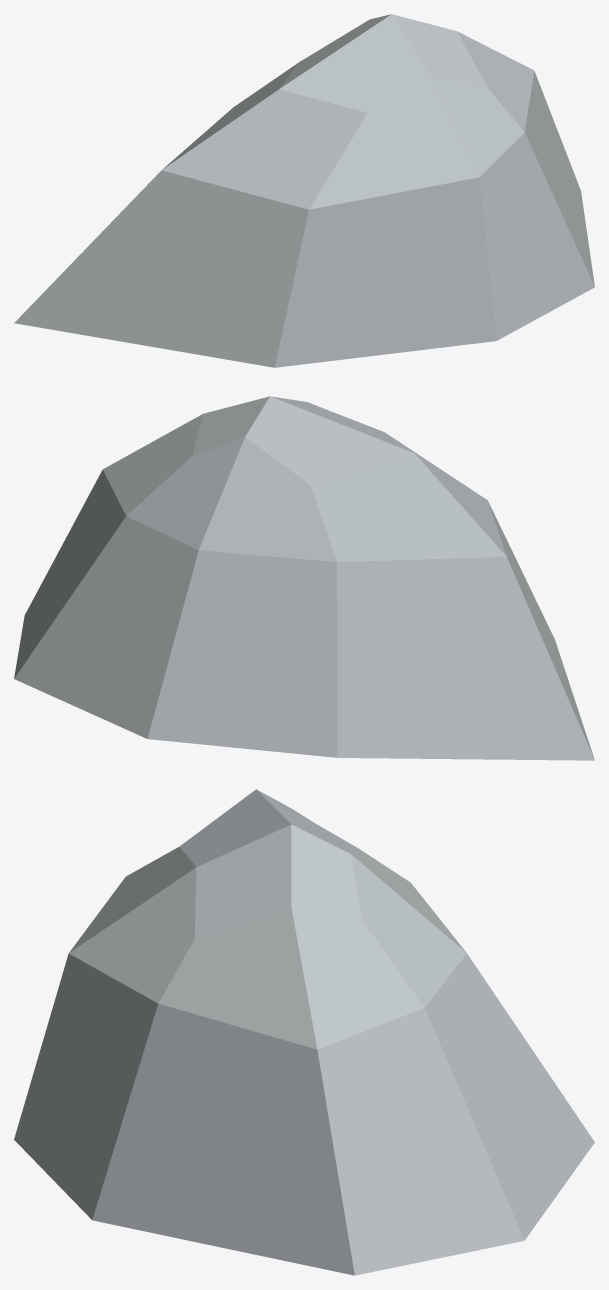
Rendered from maya_export_Stone1_v1.fbx.
The picture shows the model from 3 angles, top to bottom: view 1: azimuth 30°, elevation 25°; view 2: azimuth 150°, elevation 25°; view 3: azimuth 270°, elevation 25°; orthographic projection. The views are drawn at different scales.
Visible parts, largest first — view 1: Stone1_v1; view 2: Stone1_v1; view 3: Stone1_v1.
Boxes of the visible parts, left/top/right/bottom form: Stone1_v1: left=14, top=14, right=594, bottom=367; Stone1_v1: left=14, top=396, right=594, bottom=760; Stone1_v1: left=14, top=789, right=594, bottom=1275.
Size of the model in its own units: 3.28 by 1.38 by 2.29.
1 material, 1 textured.
